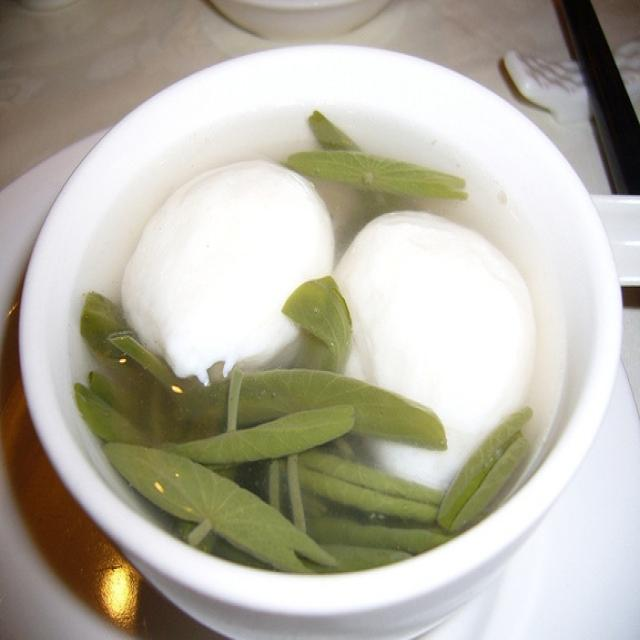熟制海鲜: (13, 28, 631, 631)
